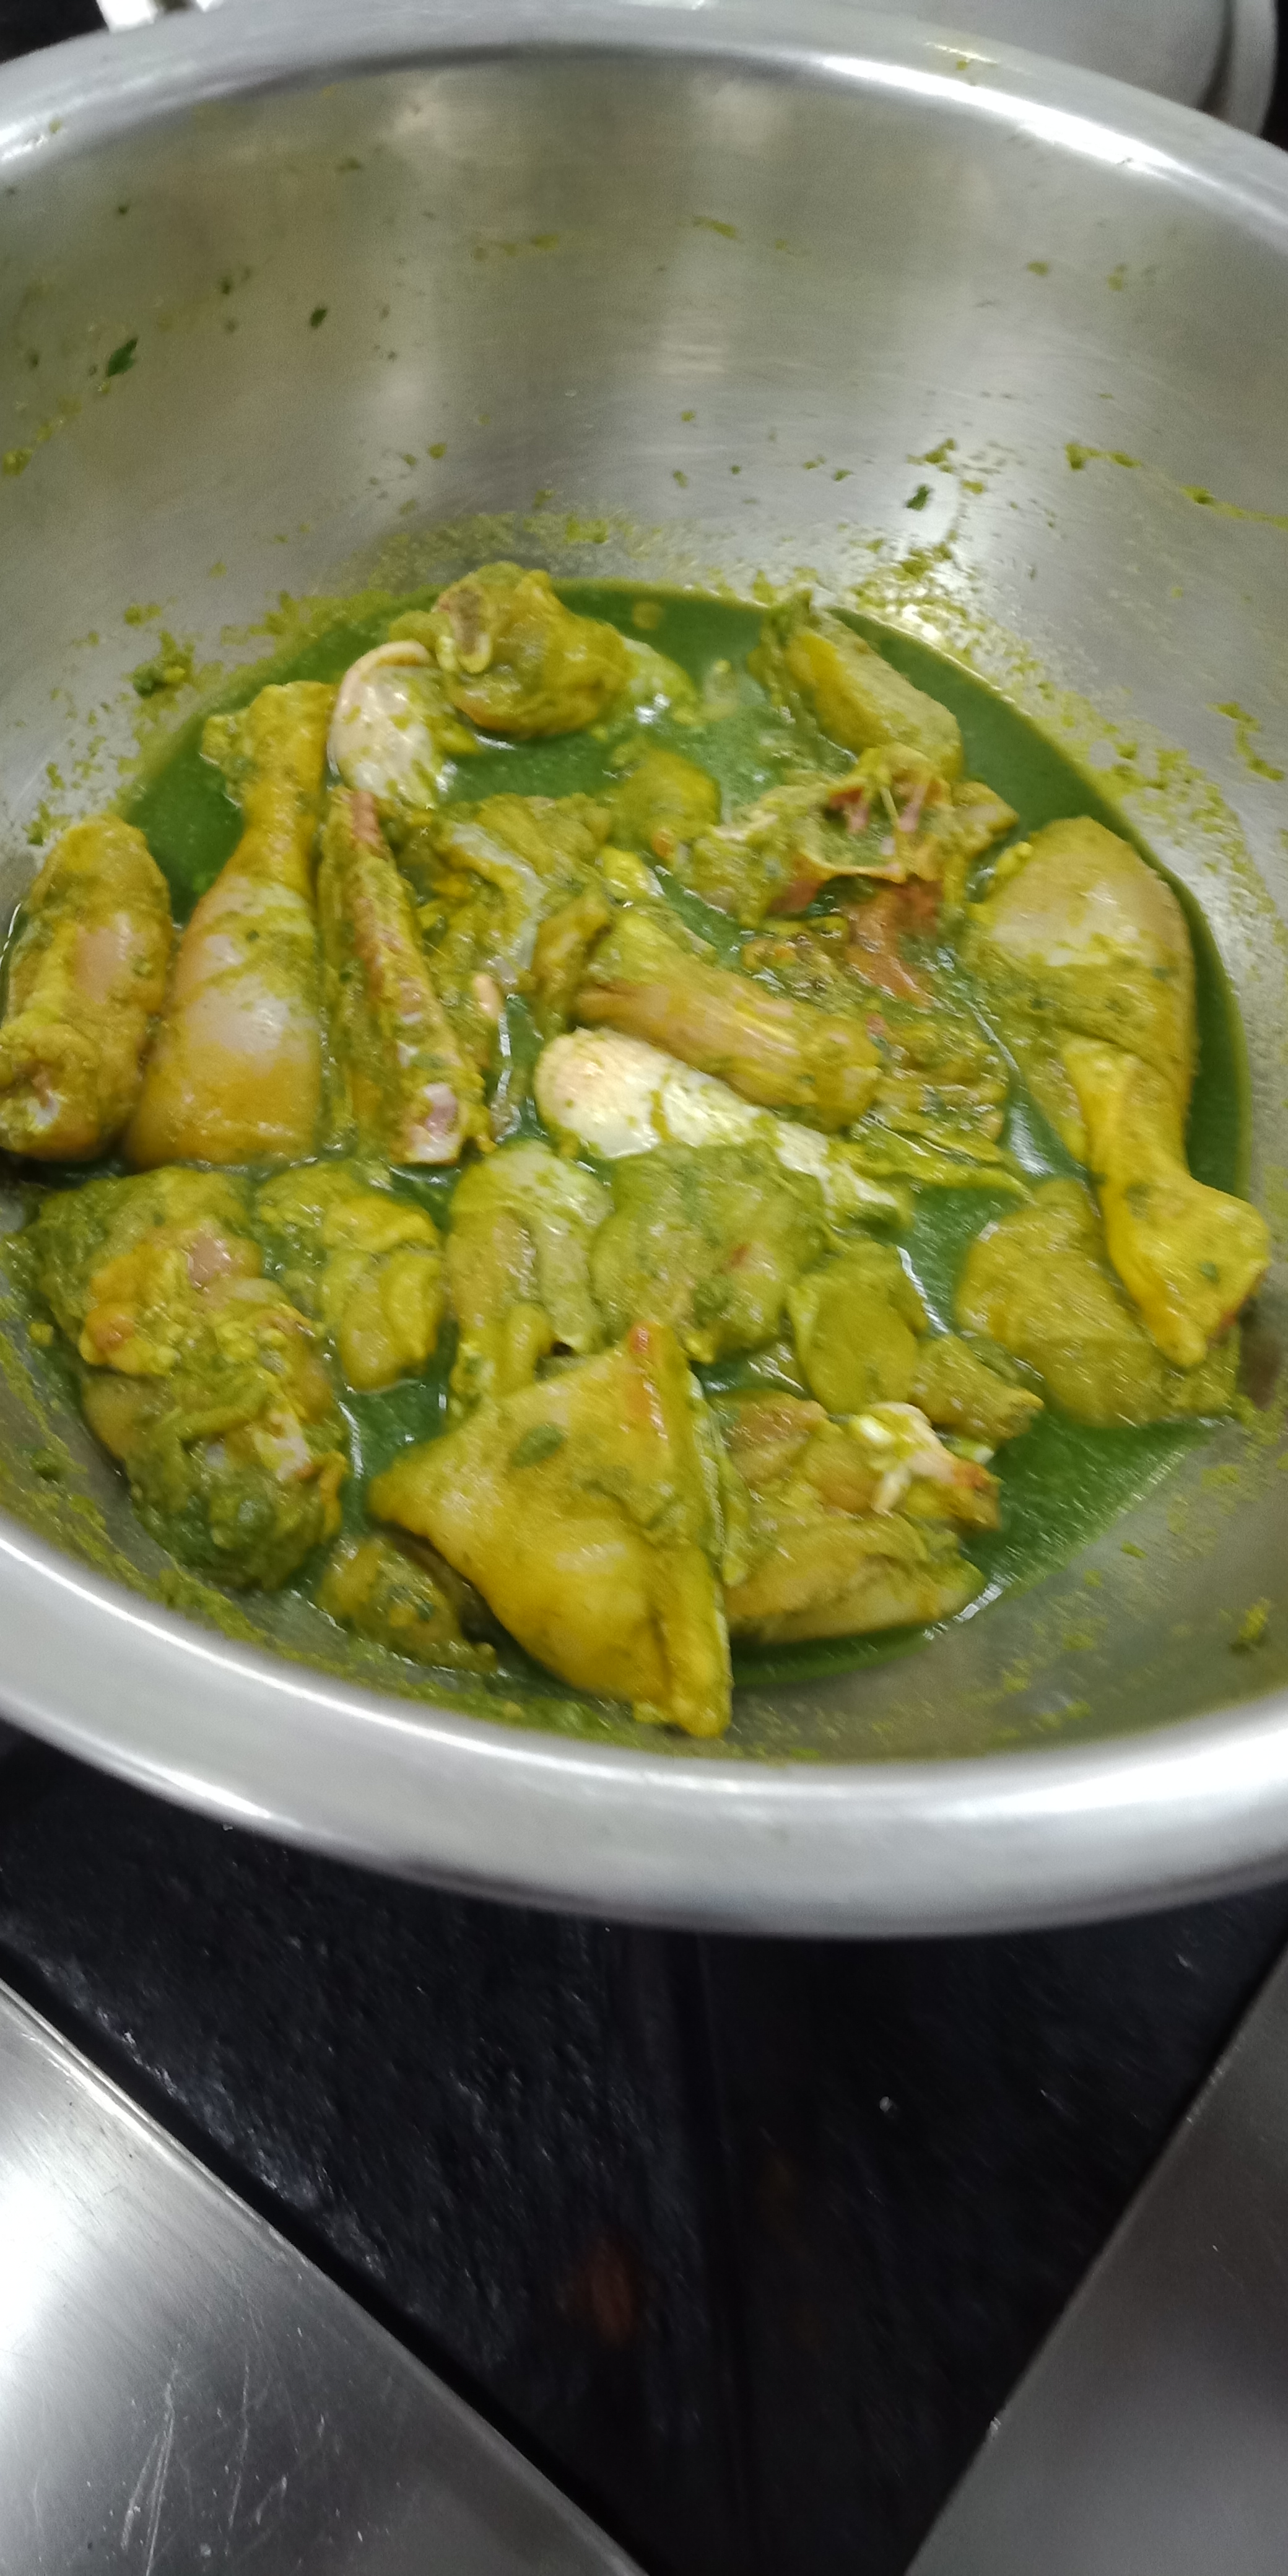food: (3, 544, 1286, 1750)
